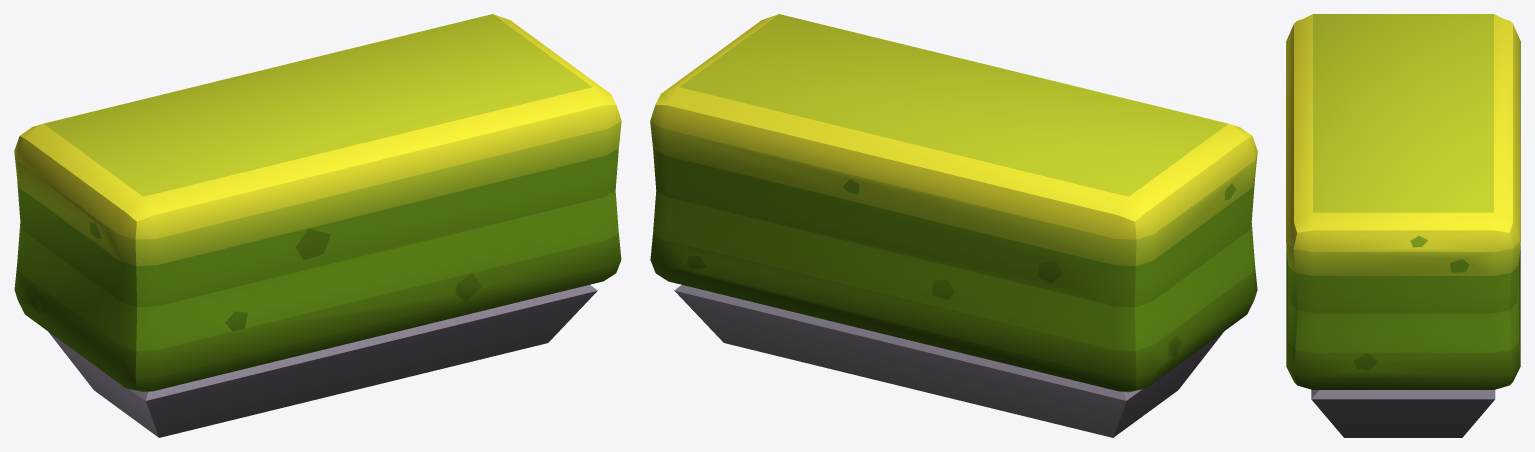
Rendered from garden_bush_2.glb.
3 renders of one model, left to right at view 1: azimuth 30°, elevation 25°; view 2: azimuth 150°, elevation 25°; view 3: azimuth 270°, elevation 25°, orthographic. The views are drawn at different scales.
Visible parts, largest first — view 1: garden_bush_2; view 2: garden_bush_2; view 3: garden_bush_2.
Part boxes in pixels (left/top/right/bottom): garden_bush_2: left=14, top=14, right=621, bottom=437; garden_bush_2: left=650, top=14, right=1257, bottom=437; garden_bush_2: left=1286, top=14, right=1520, bottom=437.
Size of the model in its own units: 1.76 by 0.8799 by 0.7892.
1 material, 1 textured.
